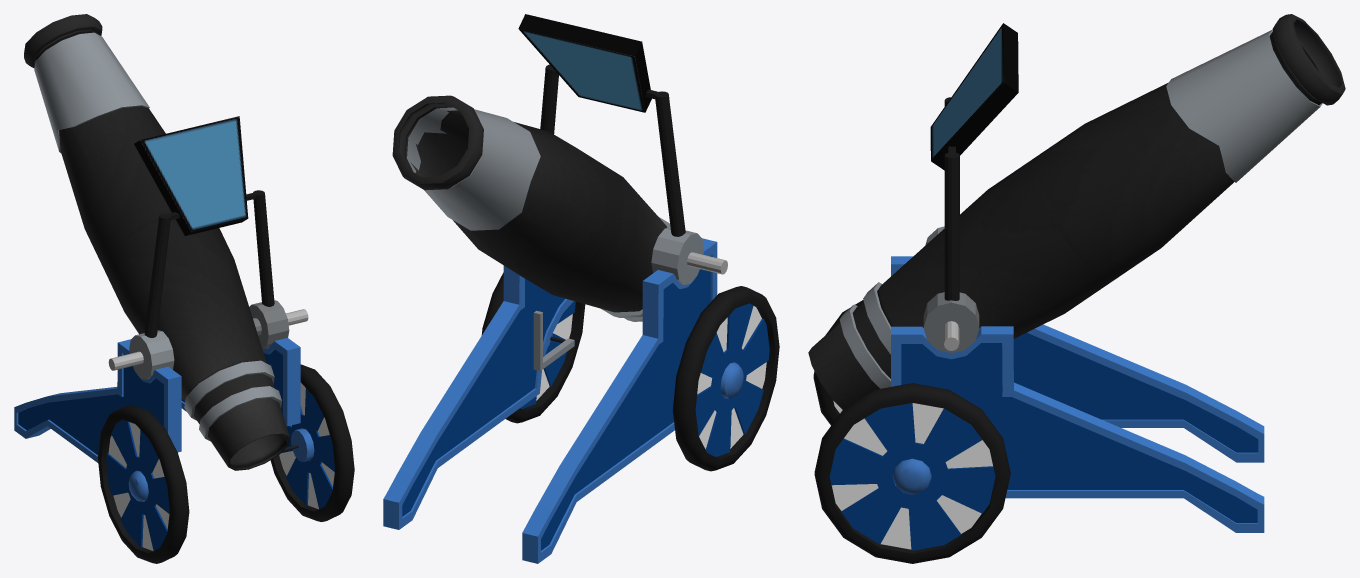
File: cannon.fbx
3 renders of one model, left to right at view 1: azimuth 30°, elevation 25°; view 2: azimuth 150°, elevation 25°; view 3: azimuth 270°, elevation 25°, orthographic. The views are drawn at different scales.
Visible parts, largest first — view 1: cannon1, wheel_1, screen, wheel_2, side_plate_1, side_plate_5, ring_2, rod_2, ring_1, rod_1; view 2: cannon1, side_plate_1, side_plate_5, wheel_1, screen, wheel_2, ring_2, rod_2, rod_1; view 3: cannon1, wheel_2, side_plate_5, side_plate_1, screen, ring_1, rod_1, wheel_1.
Part boxes in pixels (x1=…): cannon1: x1=24, y1=14, x2=289, y2=470; wheel_1: x1=97, y1=405, x2=189, y2=563; screen: x1=134, y1=116, x2=248, y2=235; wheel_2: x1=270, y1=364, x2=354, y2=521; side_plate_1: x1=14, y1=339, x2=181, y2=462; side_plate_5: x1=181, y1=338, x2=300, y2=451; ring_2: x1=108, y1=330, x2=174, y2=379; rod_2: x1=144, y1=212, x2=179, y2=337; ring_1: x1=249, y1=300, x2=308, y2=349; rod_1: x1=246, y1=190, x2=274, y2=306; cannon1: x1=392, y1=95, x2=670, y2=321; side_plate_1: x1=522, y1=238, x2=717, y2=563; side_plate_5: x1=383, y1=265, x2=574, y2=529; wheel_1: x1=672, y1=286, x2=779, y2=471; screen: x1=518, y1=14, x2=651, y2=112; wheel_2: x1=481, y1=272, x2=585, y2=423; ring_2: x1=651, y1=227, x2=727, y2=284; rod_2: x1=645, y1=89, x2=685, y2=236; rod_1: x1=540, y1=64, x2=558, y2=134; cannon1: x1=808, y1=14, x2=1345, y2=409; wheel_2: x1=814, y1=383, x2=1010, y2=563; side_plate_5: x1=891, y1=326, x2=1264, y2=532; side_plate_1: x1=891, y1=256, x2=1264, y2=462; screen: x1=930, y1=23, x2=1018, y2=170; ring_1: x1=923, y1=292, x2=979, y2=353; rod_1: x1=944, y1=146, x2=959, y2=300; wheel_1: x1=813, y1=300, x2=863, y2=425.
Bounding box in the file's own units: 4.32 × 8.72 × 8.57.
1 material, 1 textured.
